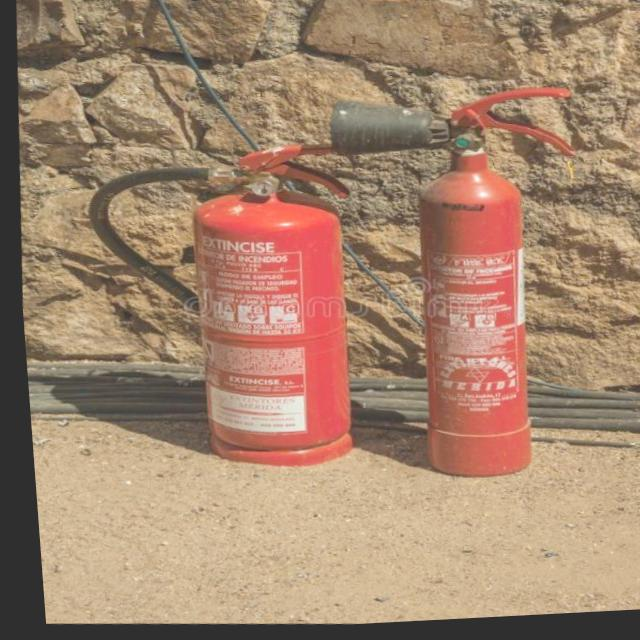FireExtinguisher: (302, 73, 605, 498), (58, 129, 393, 488)
